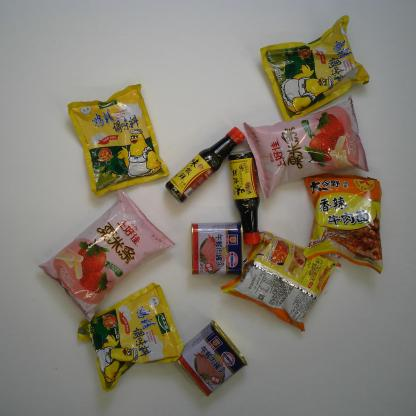Canned Food: (176, 319, 249, 397), (190, 221, 244, 277)
Instant Noodles: (219, 230, 343, 333), (302, 173, 384, 275)
Puffed Food: (36, 189, 175, 326), (242, 94, 370, 200)
Seasoner: (65, 83, 172, 198), (76, 281, 184, 393), (259, 14, 371, 122), (164, 126, 246, 204), (228, 149, 262, 245)
